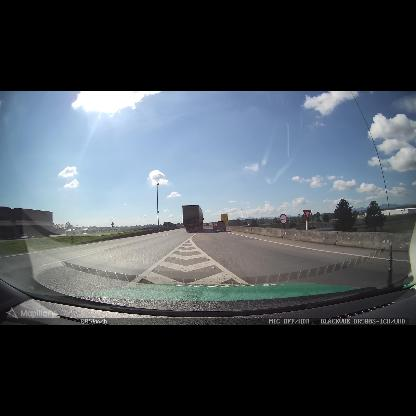R-2: (302, 210, 311, 220)
R-24a: (280, 214, 287, 225)
